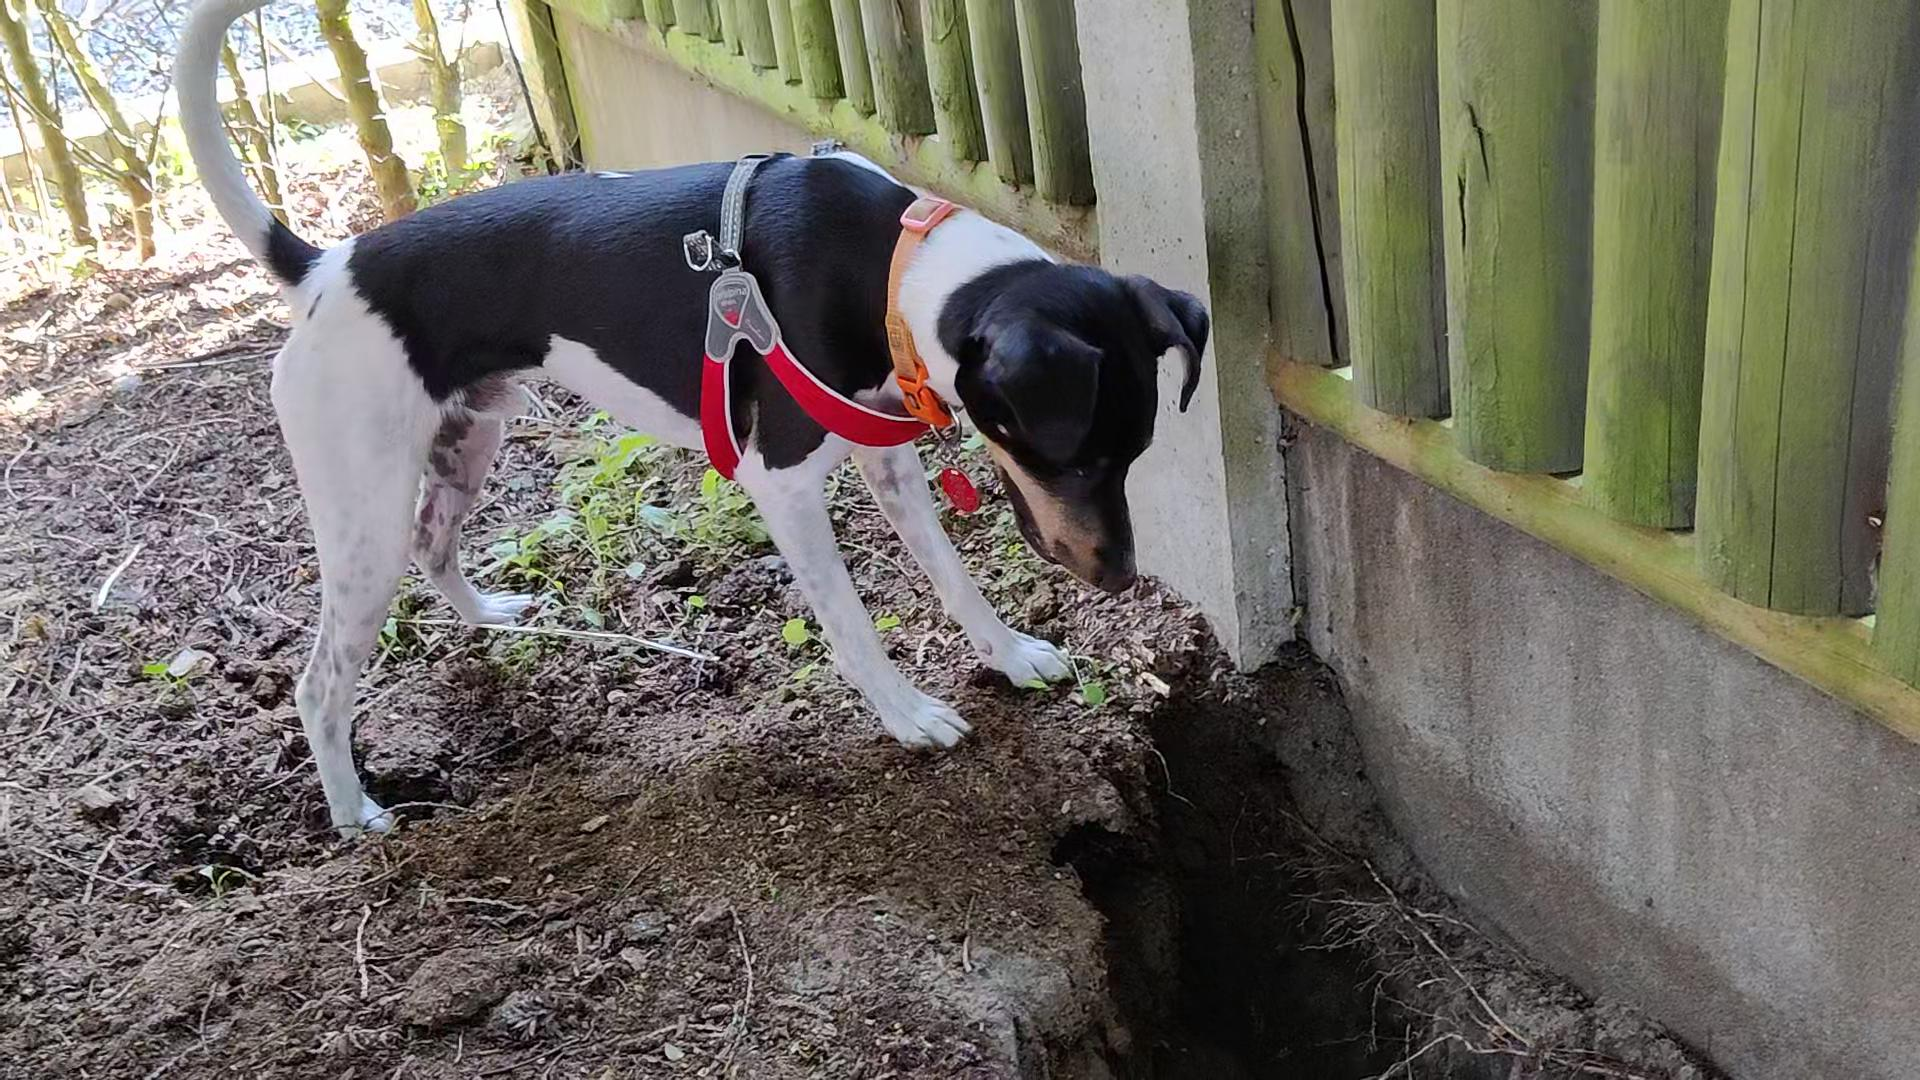Dog: (150, 0, 1215, 857)
